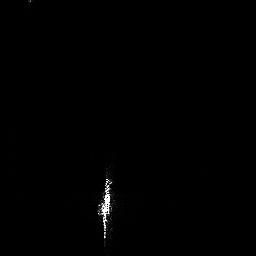ship: (95, 165, 116, 249)
